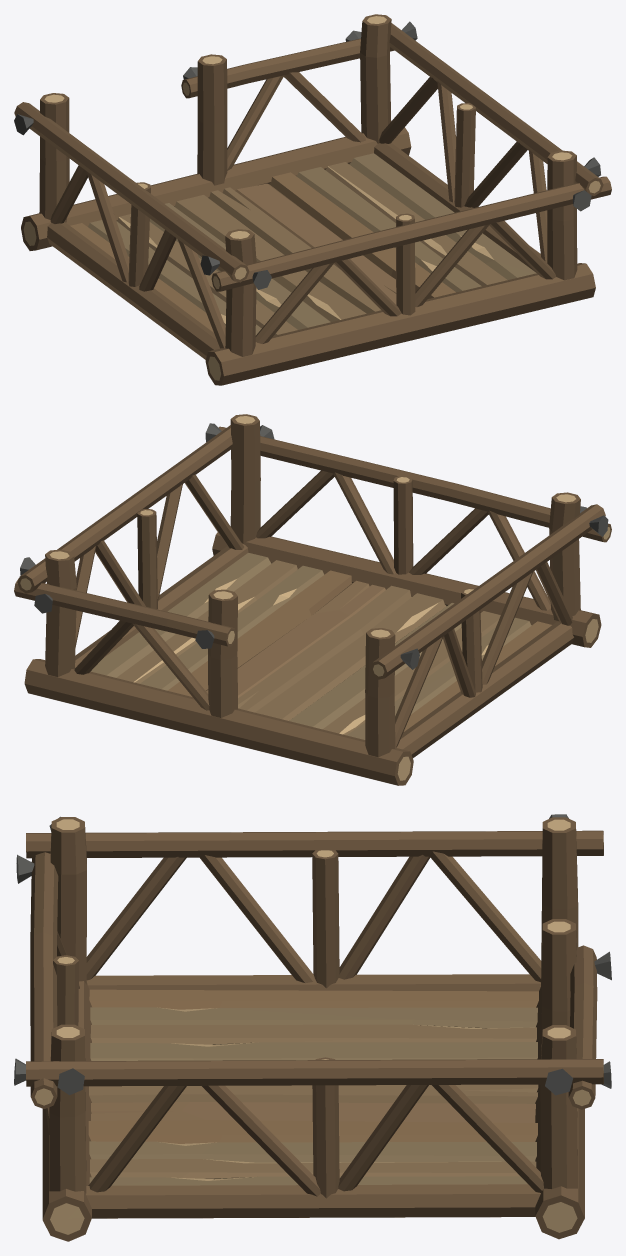
Rendered from rpgpp_ag_tower_01_platform_01b.fbx.
3 renders of one model, top to bottom at view 1: azimuth 30°, elevation 25°; view 2: azimuth 150°, elevation 25°; view 3: azimuth 270°, elevation 25°, orthographic. The views are drawn at different scales.
Visible parts, largest first — view 1: rpgpp_ag_tower_01_platform_01b; view 2: rpgpp_ag_tower_01_platform_01b; view 3: rpgpp_ag_tower_01_platform_01b.
Part boxes in pixels (<box>): rpgpp_ag_tower_01_platform_01b: <box>14,14,611,385</box>; rpgpp_ag_tower_01_platform_01b: <box>14,414,611,785</box>; rpgpp_ag_tower_01_platform_01b: <box>14,814,611,1241</box>.
Size of the model in its own units: 4.84 by 1.72 by 4.81.
